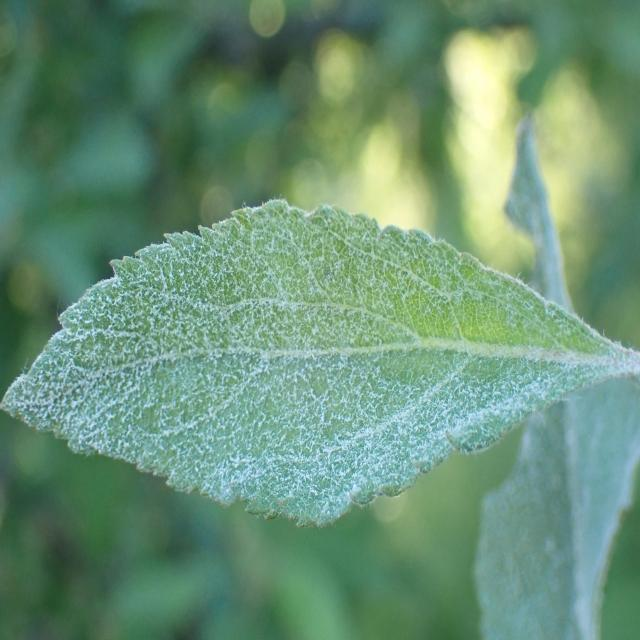Powdery_mildew: (0, 197, 631, 523), (465, 86, 640, 640)
